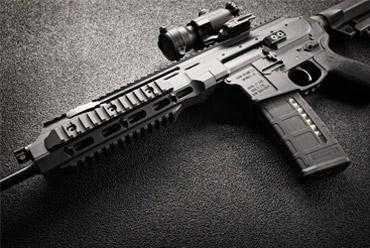heavyweapon: (0, 0, 370, 202)
